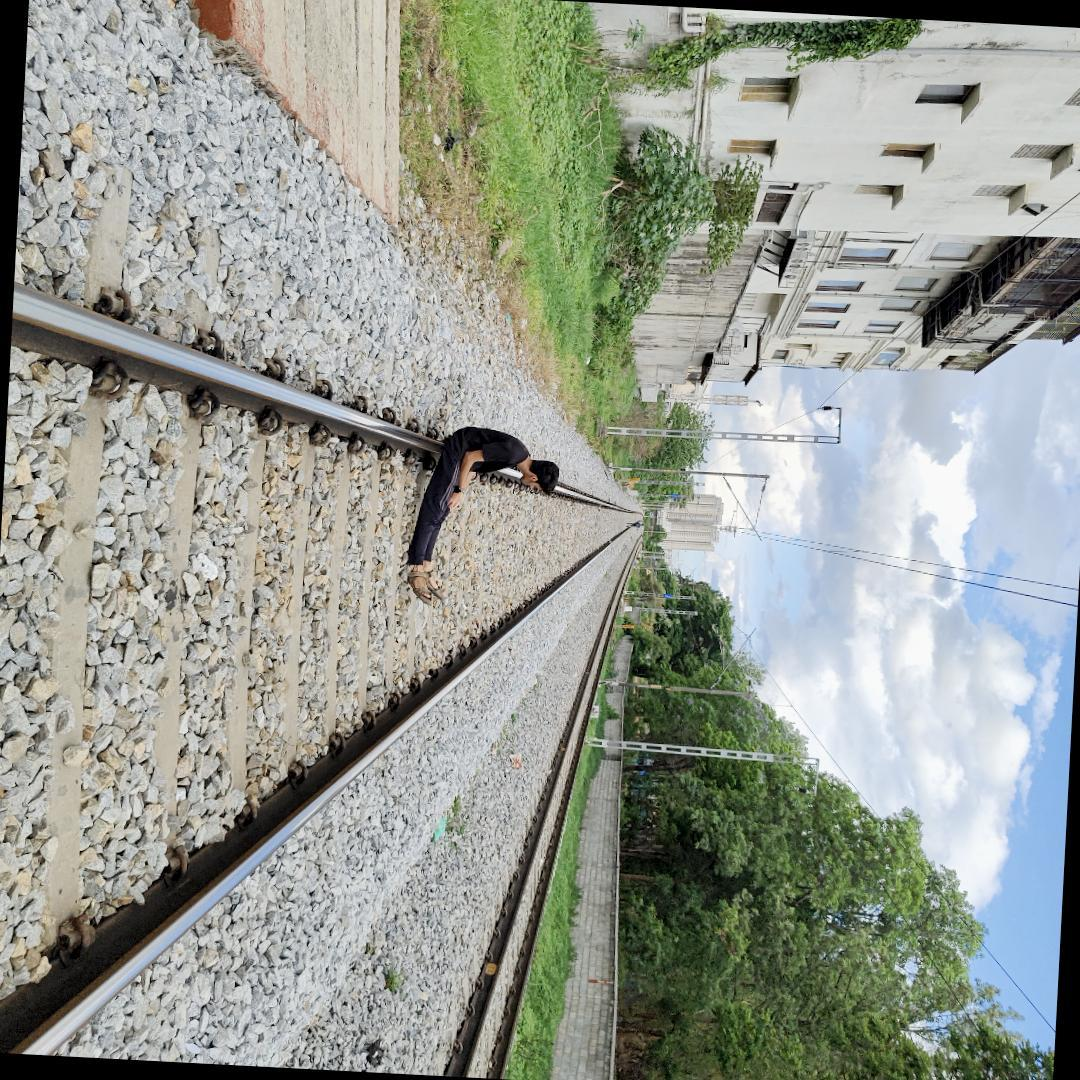sitting: (382, 398, 566, 625)
